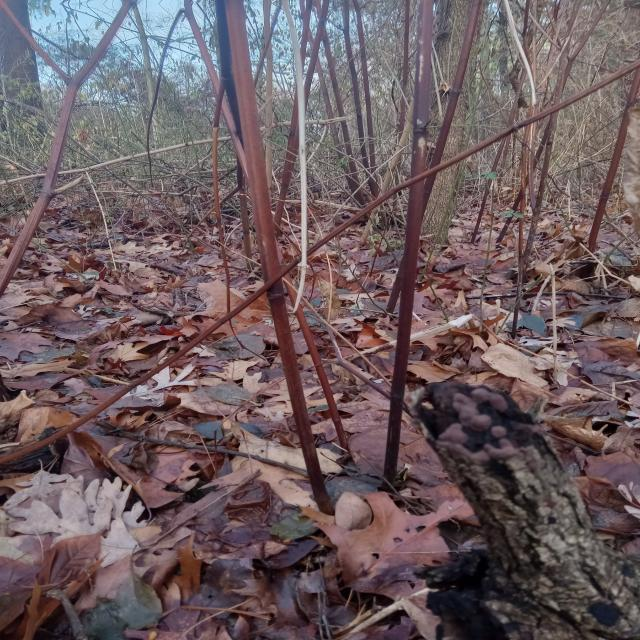knotweed-stems: (212, 0, 336, 515)
tree trunks: (404, 380, 638, 638)
